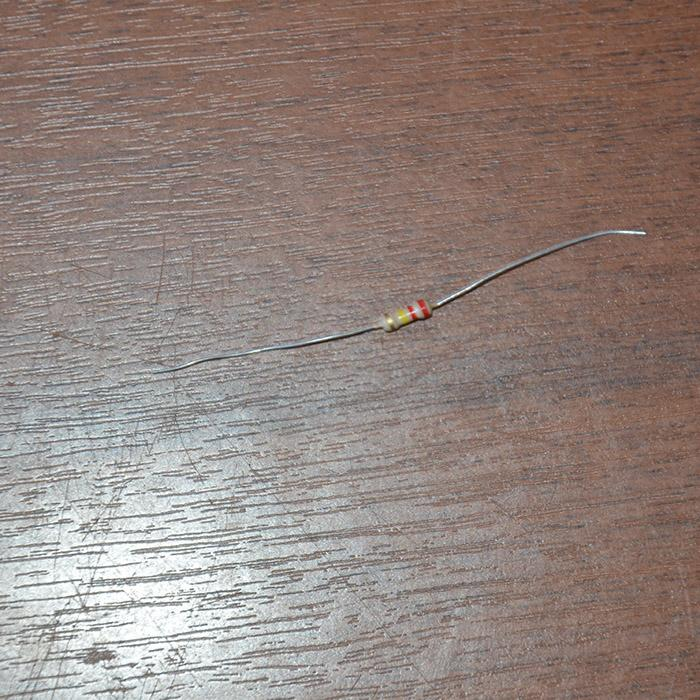resistor: (379, 298, 433, 332)
